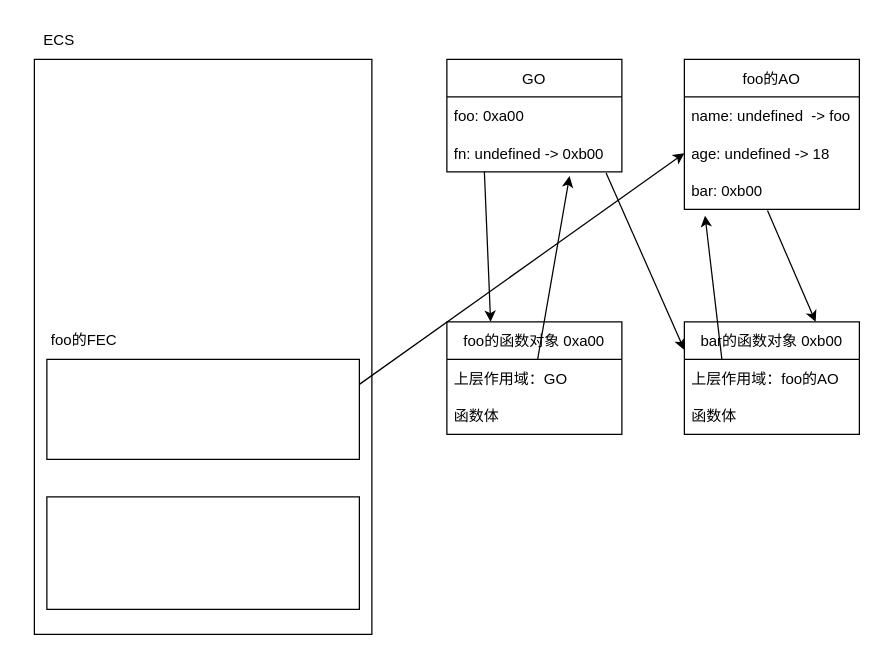
This 881x656 diagram has some shape labels left out. The shapes that lost their labels are listed below. From the top down, each one's centre as x and y in pixels, then its label:
At (202,408): "VO: AO return 0xb00".
At (202,552): "VO:GO var fn = 0xb00".
